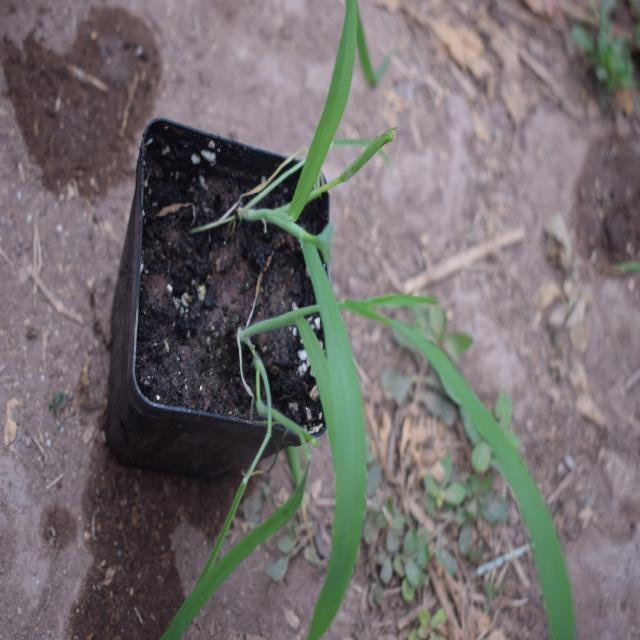crabgrass: (251, 63, 436, 609)
